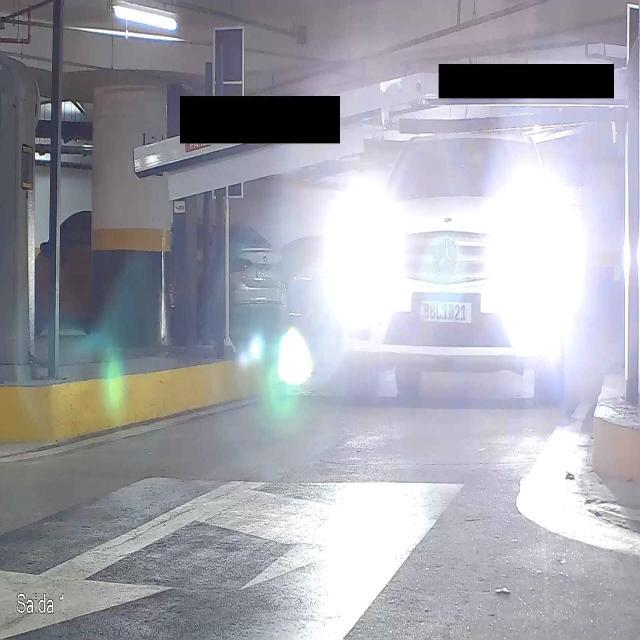mercosul_plate: (417, 295, 473, 325)
